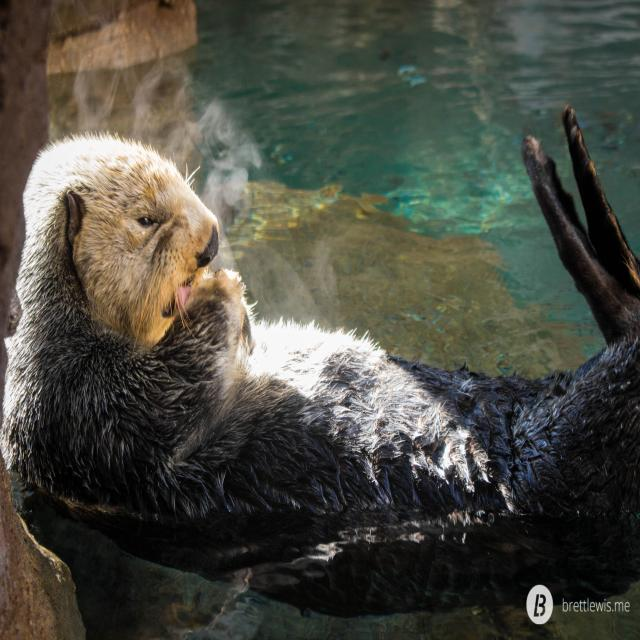otter: (2, 141, 467, 514)
